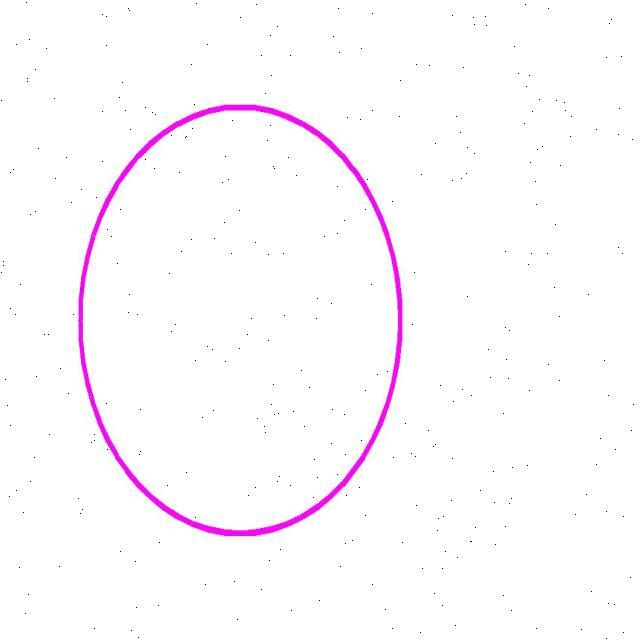Circle: (79, 105, 402, 536)
